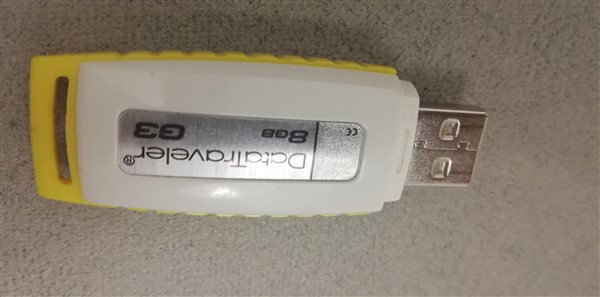flash disk: (24, 49, 491, 220)
